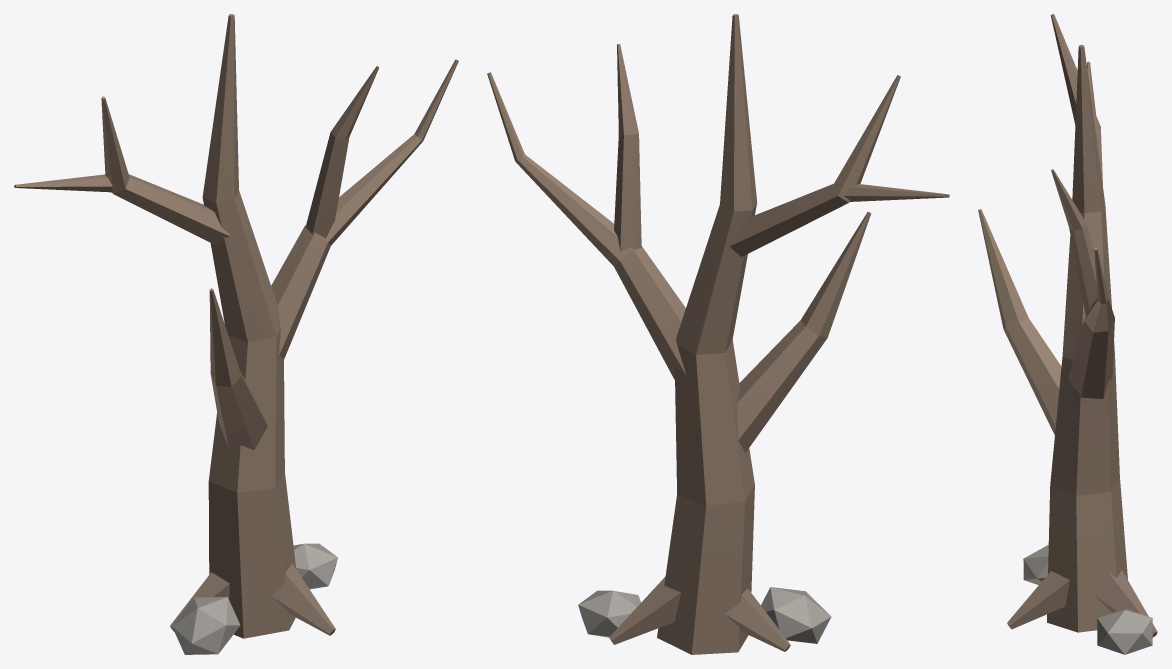
File: AV_DeadTree.glb
The picture shows the model from 3 angles, left to right: view 1: azimuth 30°, elevation 25°; view 2: azimuth 150°, elevation 25°; view 3: azimuth 270°, elevation 25°; orthographic projection. The views are drawn at different scales.
Visible parts, largest first — view 1: Body; view 2: Body; view 3: Body.
Part boxes in pixels (box(x1,y1,x2,y2)): Body: box(14, 14, 458, 654); Body: box(487, 14, 949, 654); Body: box(978, 14, 1157, 654).
Bounding box in the file's own units: 13.05 × 17.15 × 4.95.
